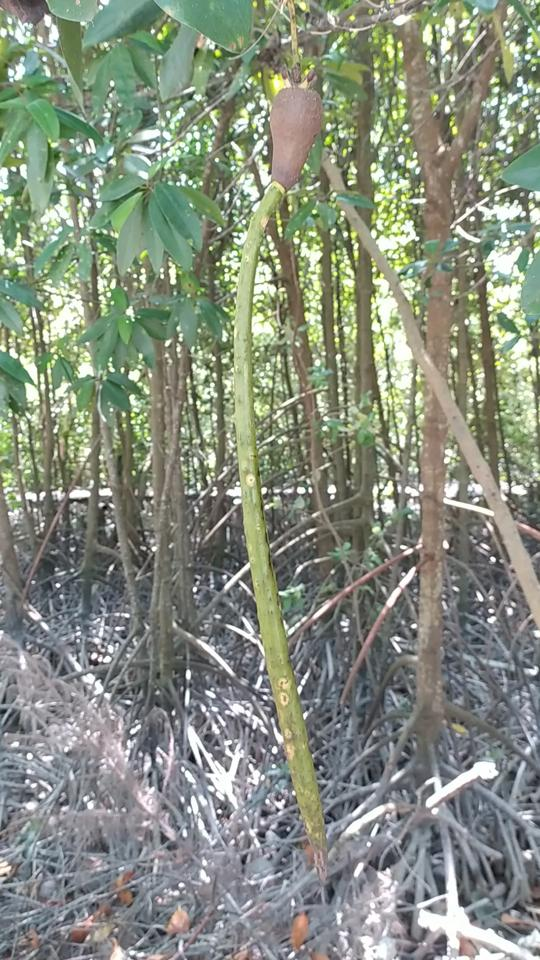setengah matang: (221, 62, 354, 889)
